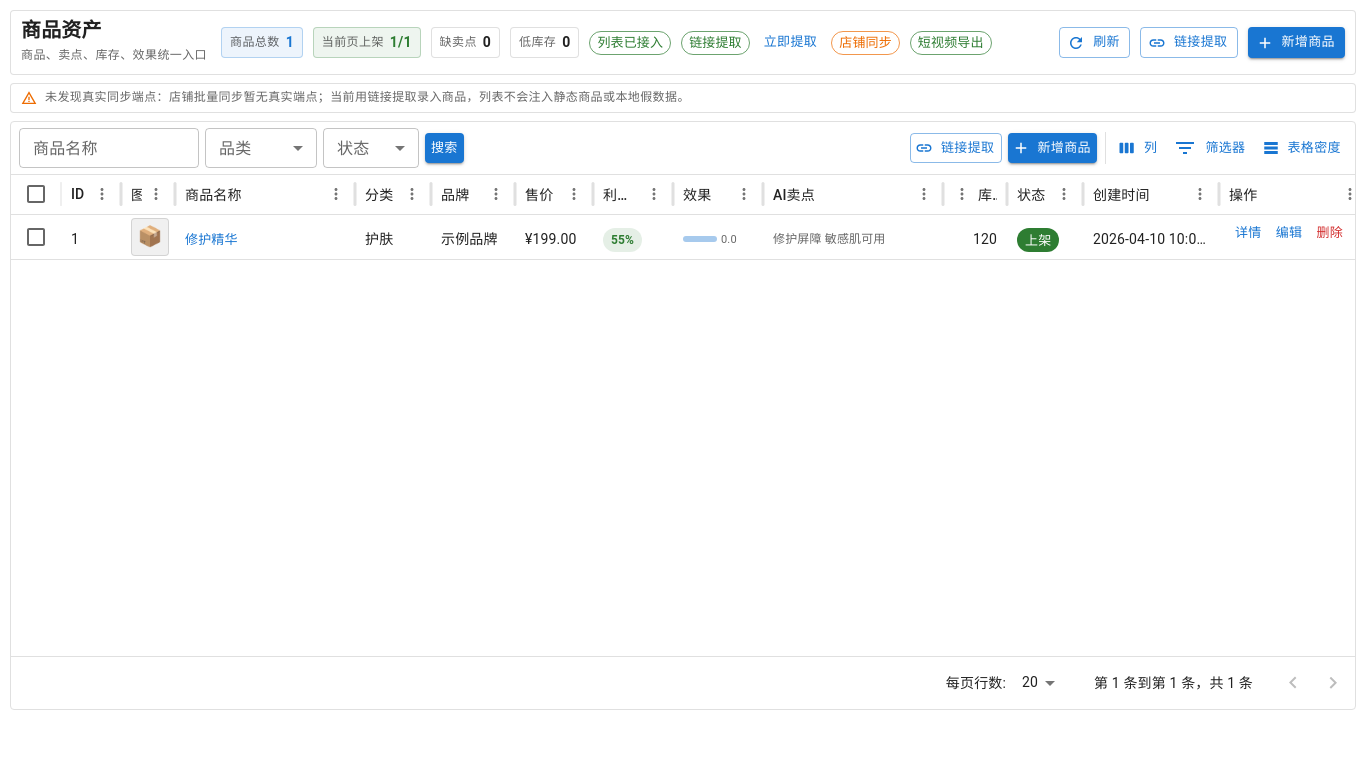
Test case: ProductsPage › shows save endpoint context and keeps add form input on failure
Check: the text "修护精华" is shown, box [185,232,238,247]
Click the button "新增商品" in the row of "短视频导出" at (1296, 42), box [1248,27,1345,58]
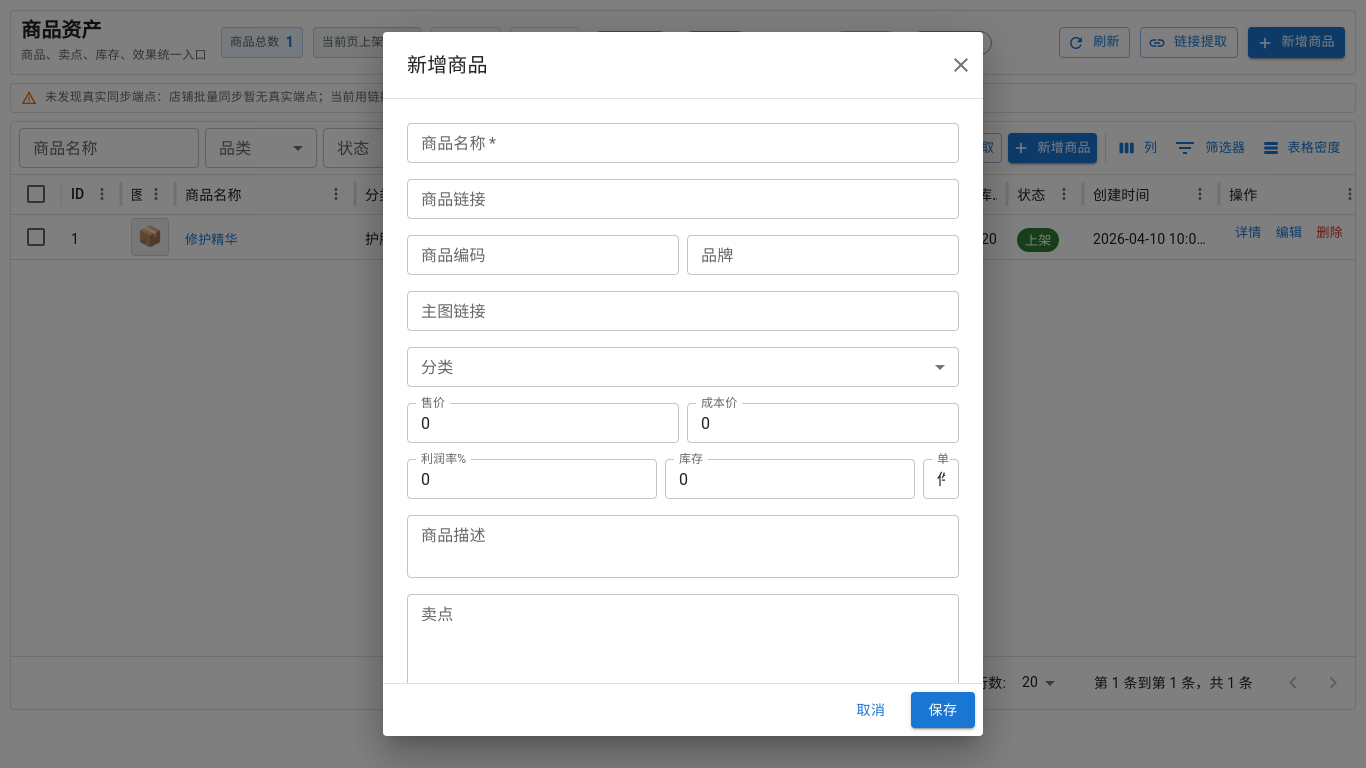
Type "失败商品" into the field labelled "商品名称 *" at (683, 143), box [407,123,959,163]
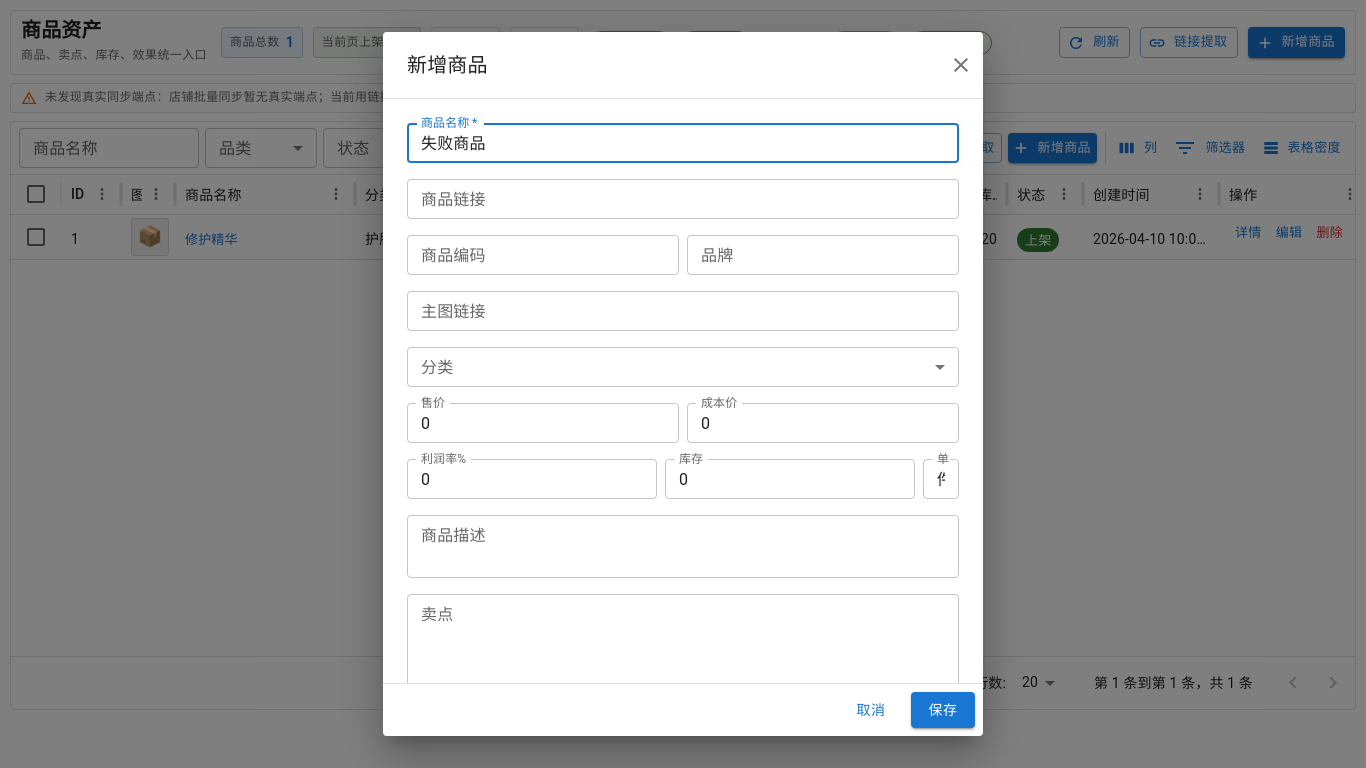
Type "SKU-FAIL" into the field labelled "商品编码" at (543, 255), box [407,235,679,275]
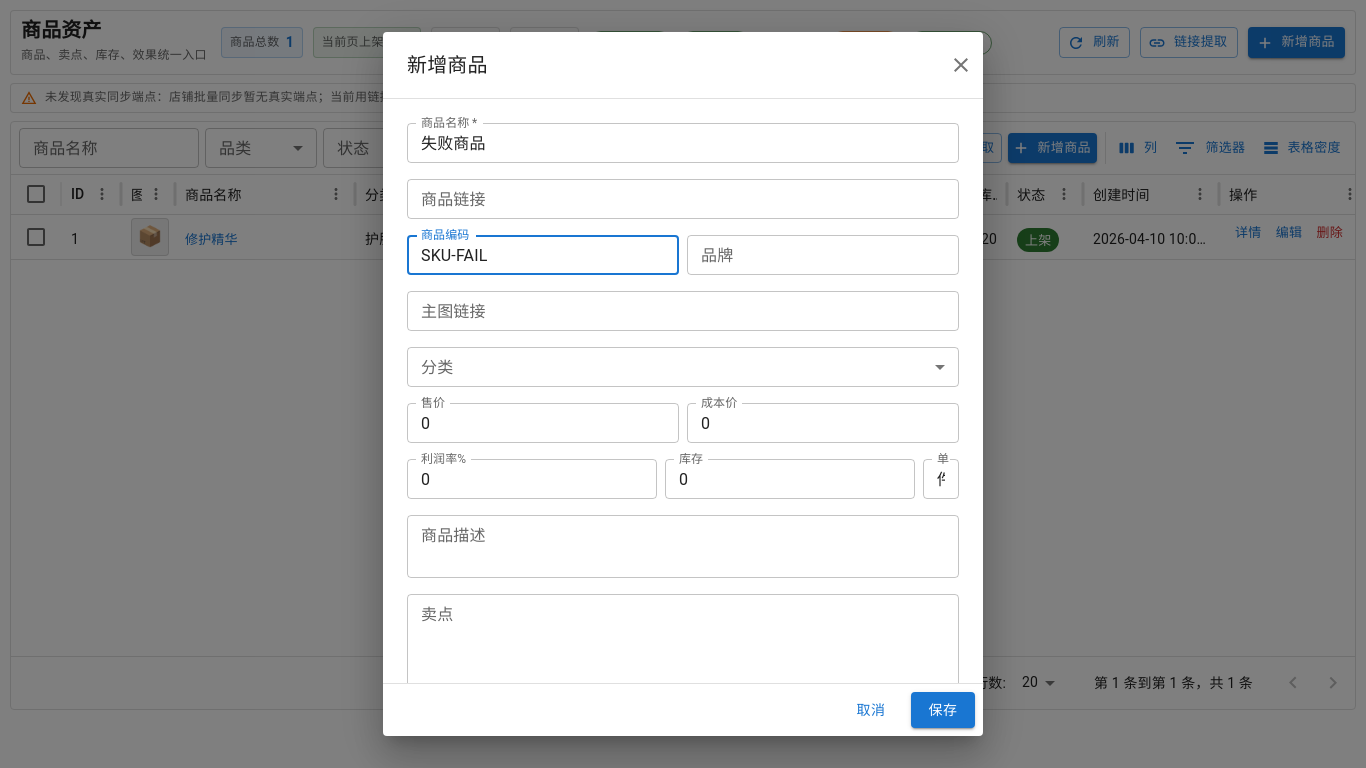
Click the button "保存" at (943, 710), box [911,692,975,728]
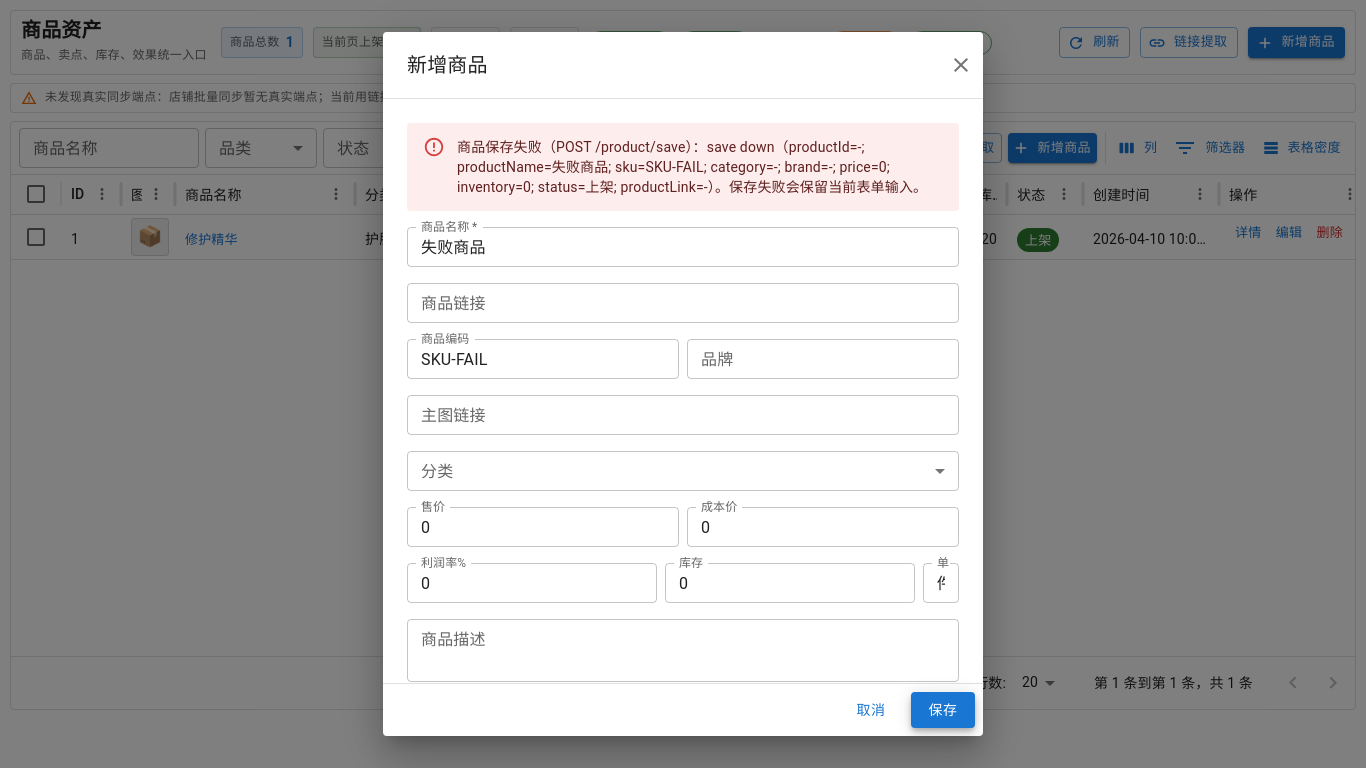
Check: the text "sku=SKU-FAIL" is shown, box [457,139,890,195]
